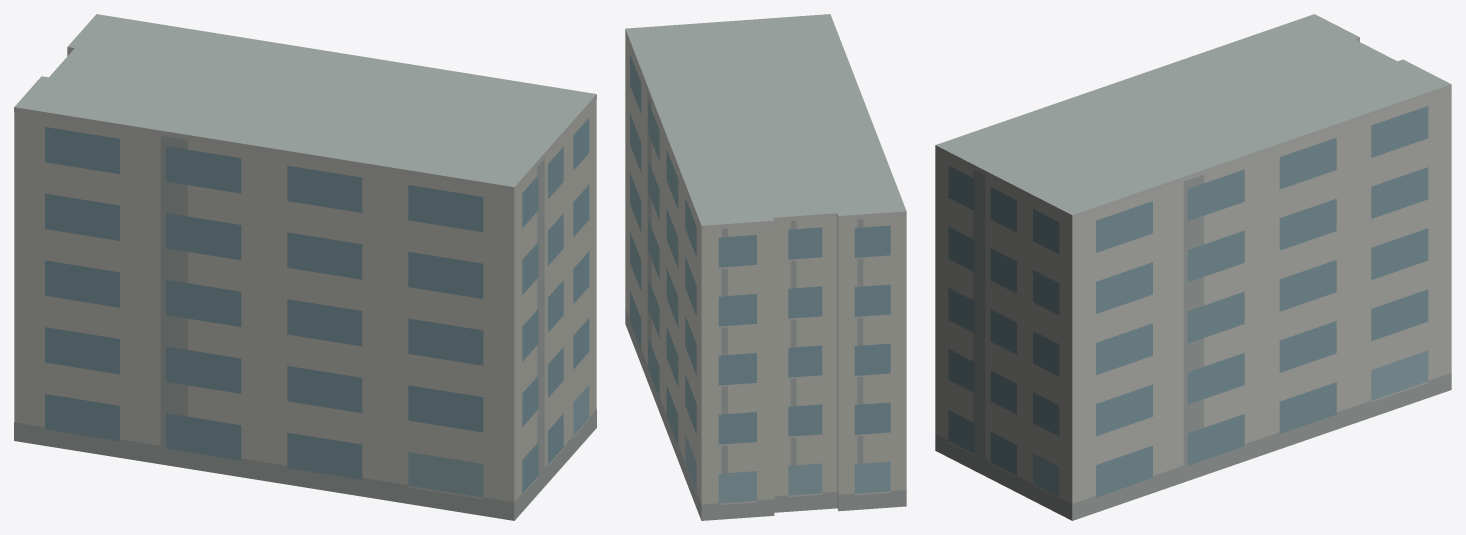
Rendered from survey-upis-32965203.glb.
3 renders of one model, left to right at view 1: azimuth 30°, elevation 25°; view 2: azimuth 150°, elevation 25°; view 3: azimuth 270°, elevation 25°, orthographic. The views are drawn at different scales.
Visible parts, largest first — view 1: survey-upis-32965203.tmp; view 2: survey-upis-32965203.tmp; view 3: survey-upis-32965203.tmp.
Part boxes in pixels (<box>): survey-upis-32965203.tmp: <box>14,14,596,520</box>; survey-upis-32965203.tmp: <box>625,14,906,520</box>; survey-upis-32965203.tmp: <box>935,14,1451,520</box>.
Size of the model in its own units: 21.55 by 15.25 by 23.36.
